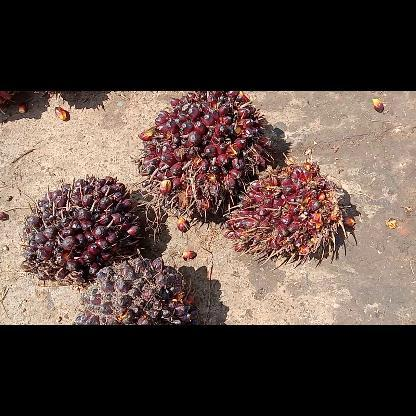Kurang masak: (137, 90, 273, 240), (224, 158, 354, 264), (20, 175, 140, 289), (76, 256, 198, 324)
